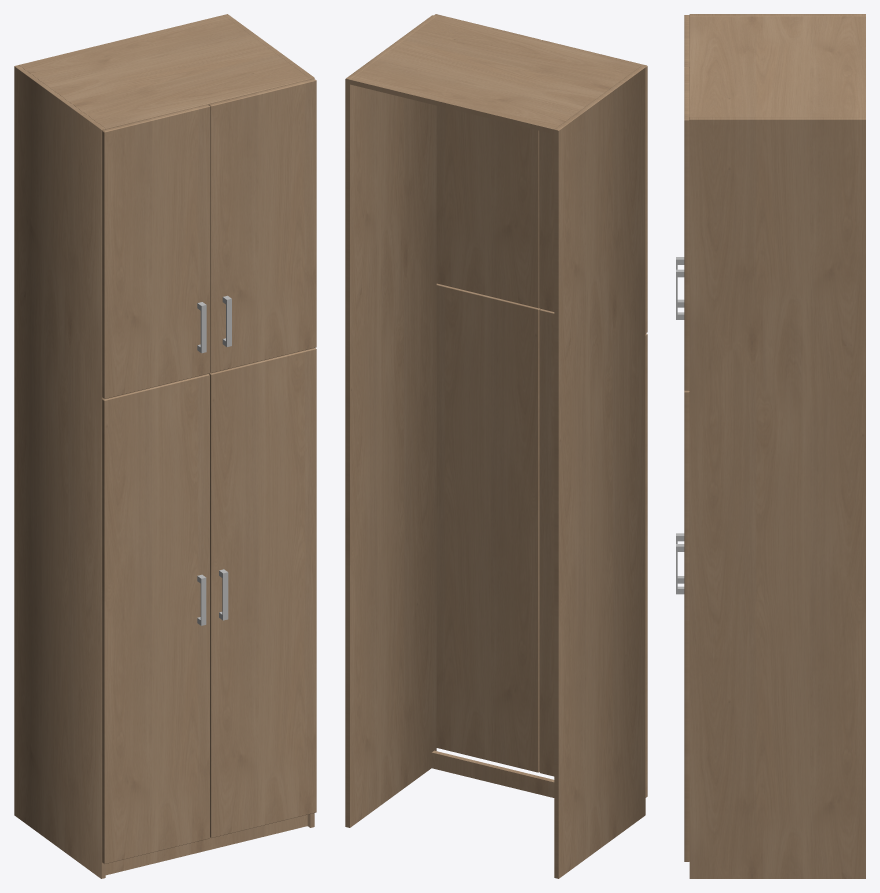
Rendered from Szafa.fbx.
3 renders of one model, left to right at view 1: azimuth 30°, elevation 25°; view 2: azimuth 150°, elevation 25°; view 3: azimuth 270°, elevation 25°, orthographic.
Parts seen in each view (by area): view 1: 1; view 2: 1; view 3: 1.
Boxes of the visible parts, <box> form: 1: <box>14,14,316,878</box>; 1: <box>345,14,647,878</box>; 1: <box>676,14,865,878</box>.
Bounding box in the file's own units: 85 × 285 × 64.6.
2 materials, 1 textured.
